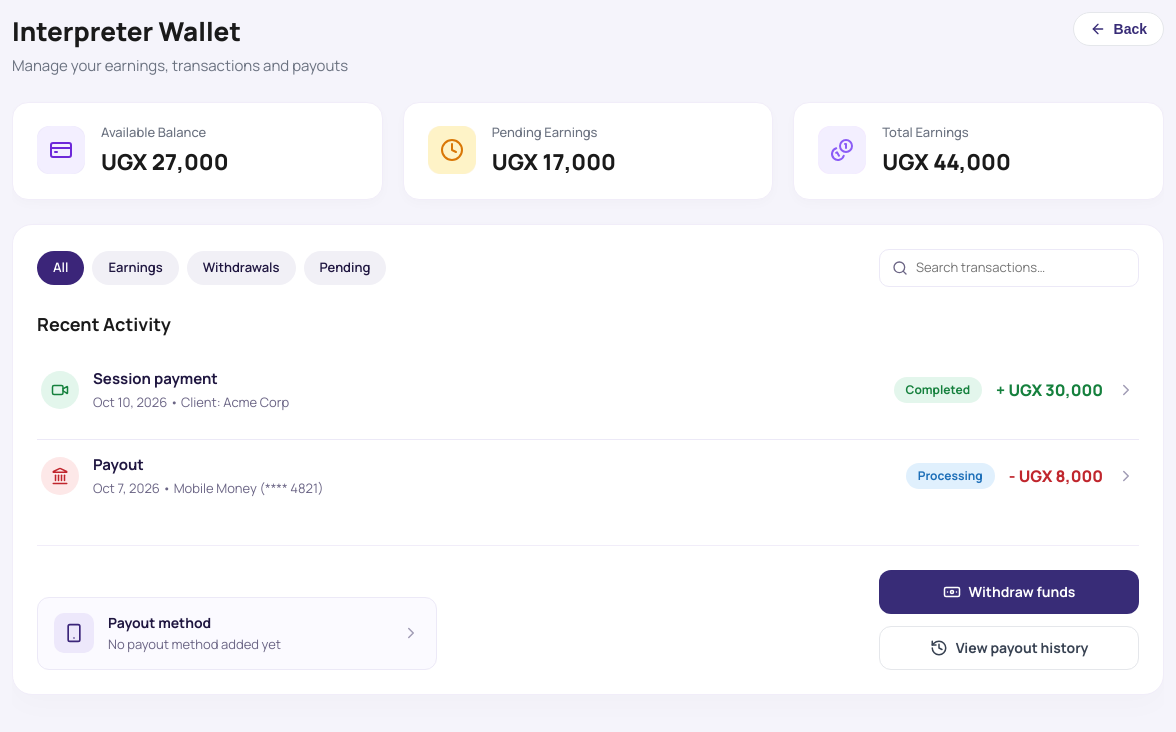
it: InterpreterWalletPage › with payments live › shows only the payouts when asked for the payout history
The image size is (1176, 732).
Expected: the text "Session payment" is shown, top-left (93, 368), bottom-right (218, 388)
Click the button "View payout history" at (1009, 648), box top-left (879, 626), bottom-right (1139, 670)
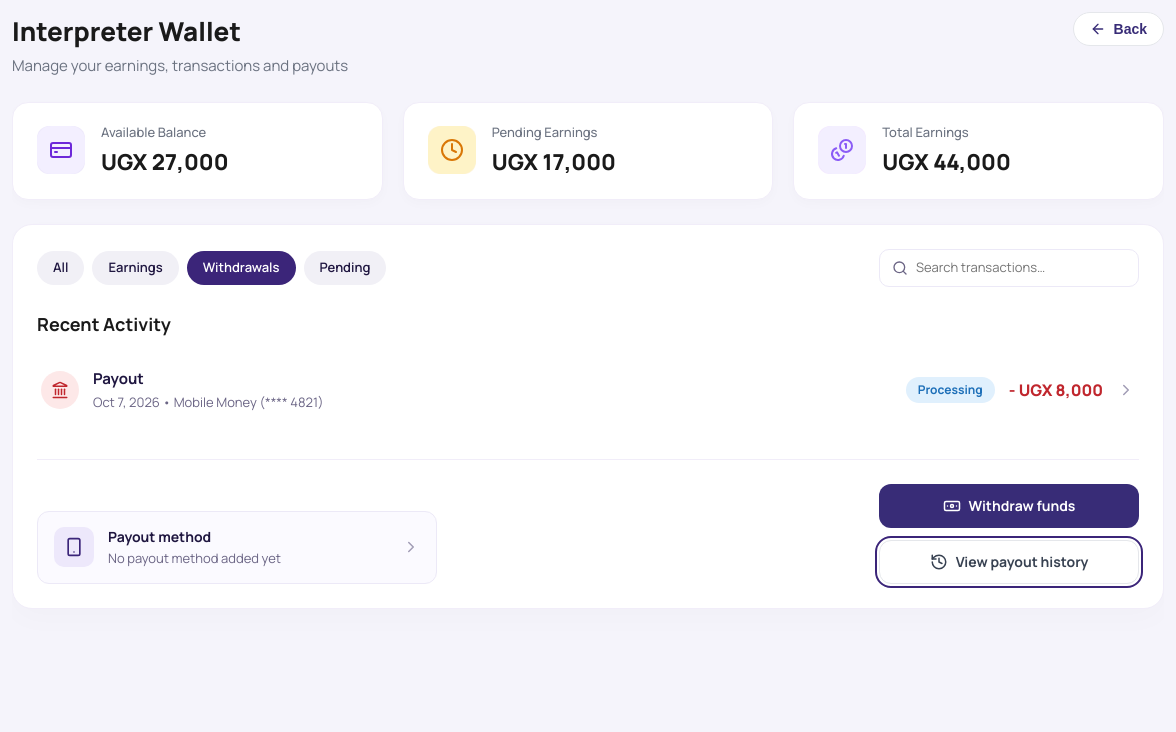
Expected: the text "Payout" is shown, top-left (93, 368), bottom-right (144, 388)
Expected: the number of list items is 1, top-left (41, 368), bottom-right (1135, 411)
